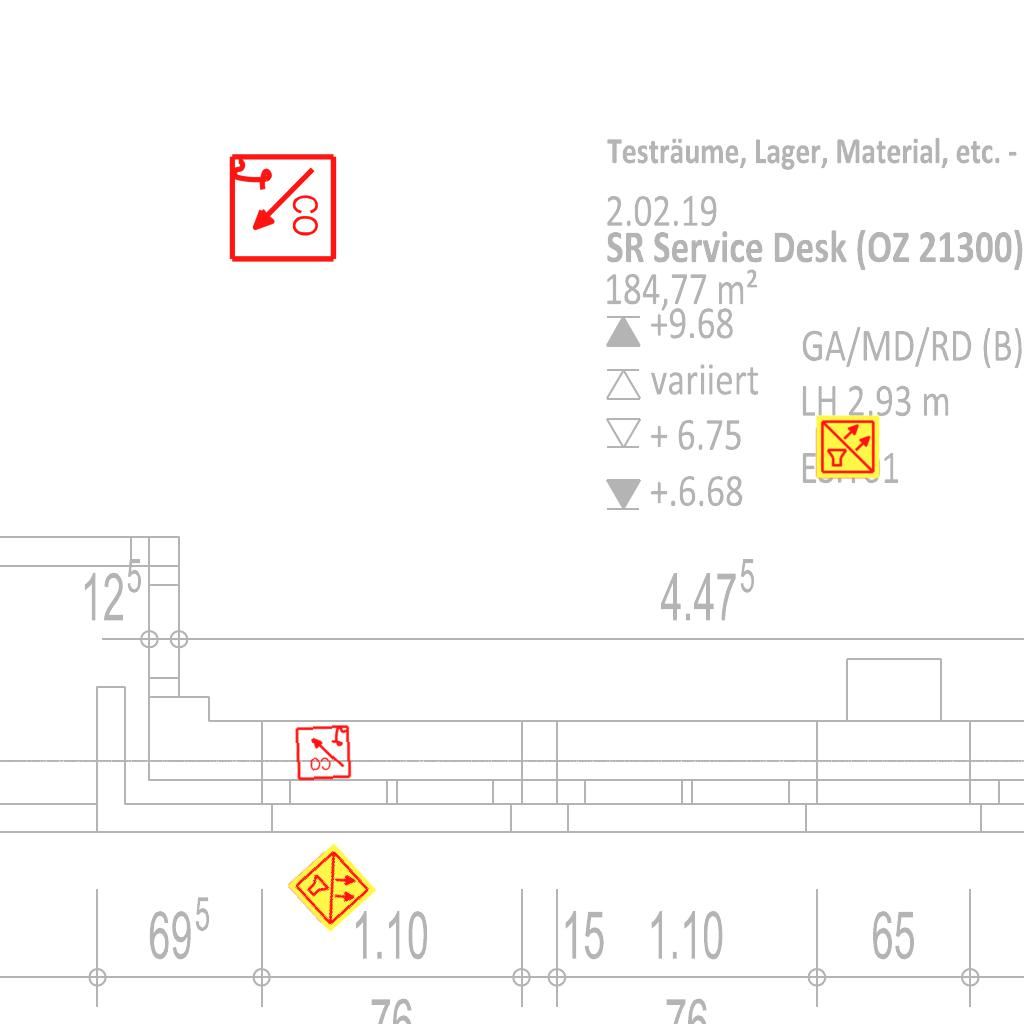OKW_Multisensormelder_(Kombination_optischer_Rauch-Kahlenmonoxid_Waerme-Melder): (285, 841, 379, 935), (815, 414, 881, 480)
ROA_Rauchmelder_optisch_mit_Signalgeber_(Sockelsirene): (225, 152, 338, 265), (293, 722, 353, 782)
